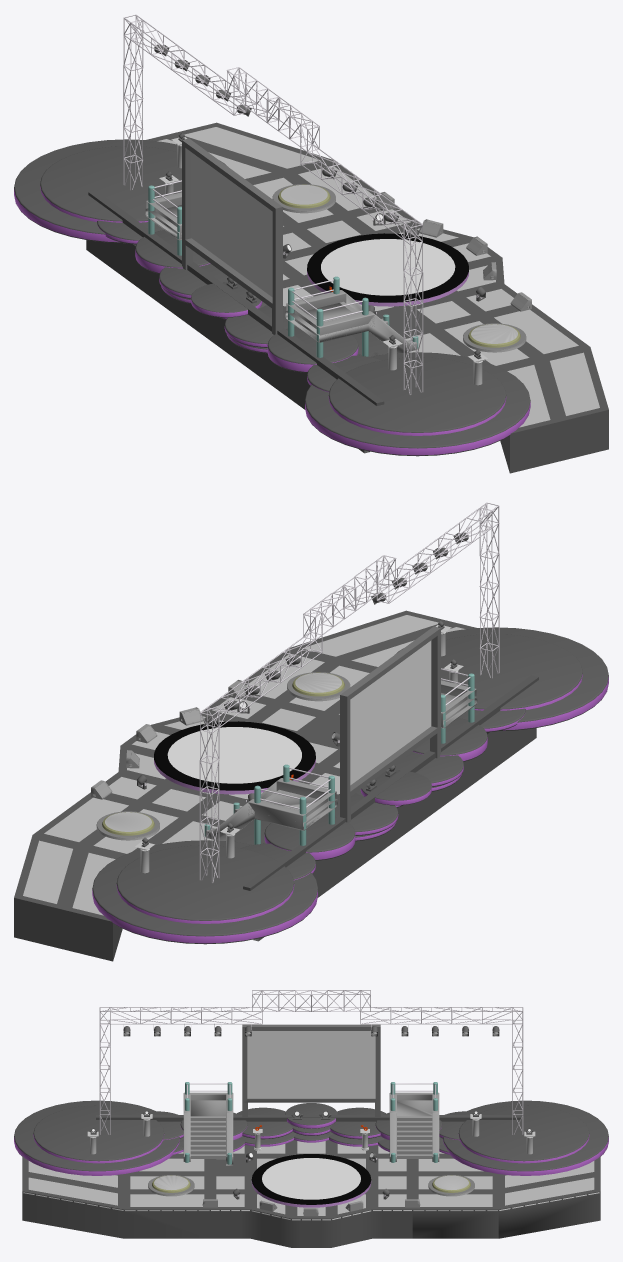
The model's file is Palco 2.fbx.
3 views of the same model, one above another, from view 1: azimuth 30°, elevation 25°; view 2: azimuth 150°, elevation 25°; view 3: azimuth 270°, elevation 25° (orthographic). The views are drawn at different scales.
Parts seen in each view (by area): view 1: panggung, Cylinder.6, Cylinder.7, palang_putih, utama, Cube.1_9, Cube.2, Cube.1_3, Cylinder_1, pangung_kecil, Cylinder.5_1, Cylinder.2_1 (+2 smaller); view 2: panggung, Cylinder.6, Cylinder.7, palang_putih, utama, Cube.1_9, Cube.2, Cube.1_3, Cylinder_1, pangung_kecil, Cylinder.5_1, Cylinder.2_1 (+2 smaller); view 3: panggung, Cylinder.6, Cube.1_9, Cylinder.7, palang_putih, utama, Cube.1_3, Cube.2, Cylinder.5_1, pangung_kecil, Cylinder.2_1, Cylinder.3_2 (+11 smaller).
Part boxes in pixels (left/top/right/bottom): panggung: left=86, top=122, right=608, bottom=473; Cylinder.6: left=40, top=146, right=506, bottom=435; Cylinder.7: left=14, top=139, right=530, bottom=456; palang_putih: left=123, top=14, right=423, bottom=394; utama: left=307, top=233, right=468, bottom=306; Cube.1_9: left=191, top=152, right=272, bottom=297; Cube.2: left=182, top=138, right=282, bottom=334; Cube.1_3: left=145, top=192, right=417, bottom=352; Cylinder_1: left=135, top=230, right=358, bottom=372; pangung_kecil: left=272, top=184, right=526, bottom=352; Cylinder.5_1: left=159, top=263, right=296, bottom=347; Cylinder.2_1: left=97, top=220, right=381, bottom=392; panggung: left=14, top=610, right=538, bottom=961; Cylinder.6: left=116, top=634, right=582, bottom=923; Cylinder.7: left=92, top=627, right=608, bottom=944; palang_putih: left=199, top=502, right=499, bottom=882; utama: left=154, top=721, right=315, bottom=794; Cube.1_9: left=350, top=640, right=431, bottom=785; Cube.2: left=340, top=626, right=440, bottom=822; Cube.1_3: left=205, top=680, right=477, bottom=840; Cylinder_1: left=264, top=718, right=487, bottom=860; pangung_kecil: left=96, top=672, right=350, bottom=840; Cylinder.5_1: left=326, top=751, right=463, bottom=835; Cylinder.2_1: left=241, top=708, right=525, bottom=880; panggung: left=22, top=1115, right=600, bottom=1247; Cylinder.6: left=33, top=1105, right=589, bottom=1163; Cube.1_9: left=247, top=1031, right=375, bottom=1098; Cylinder.7: left=14, top=1100, right=608, bottom=1175; palang_putih: left=99, top=990, right=523, bottom=1134; utama: left=251, top=1154, right=371, bottom=1207; Cube.1_3: left=183, top=1092, right=439, bottom=1165; Cube.2: left=242, top=1024, right=380, bottom=1116; Cylinder.5_1: left=237, top=1107, right=385, bottom=1139; pangung_kecil: left=148, top=1175, right=474, bottom=1196; Cylinder.2_1: left=143, top=1111, right=479, bottom=1140; Cylinder.3_2: left=285, top=1103, right=337, bottom=1128.
Size of the model in its own units: 374 by 275 by 832.
